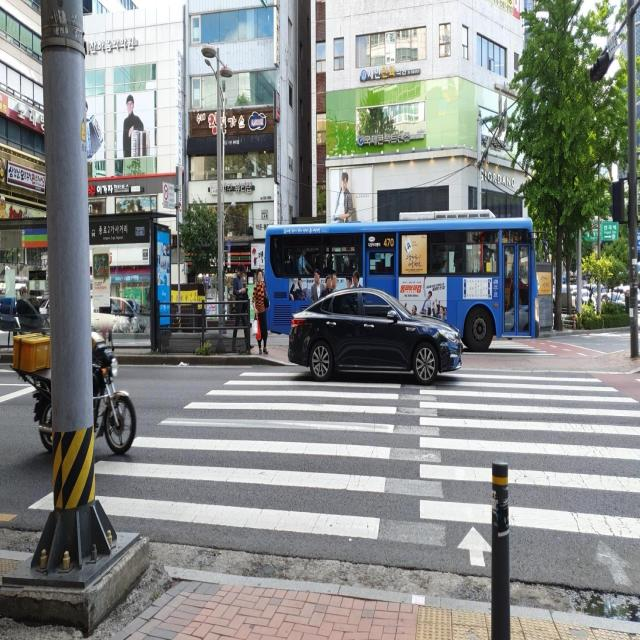횡단보도: (25, 368, 640, 592)
